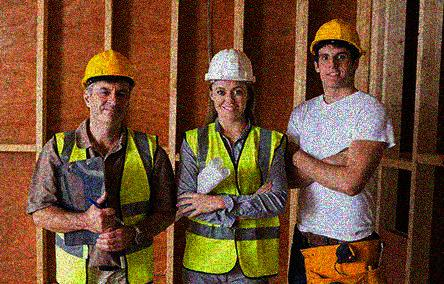helmet: (79, 49, 136, 124), (309, 18, 367, 89), (203, 48, 256, 121)
